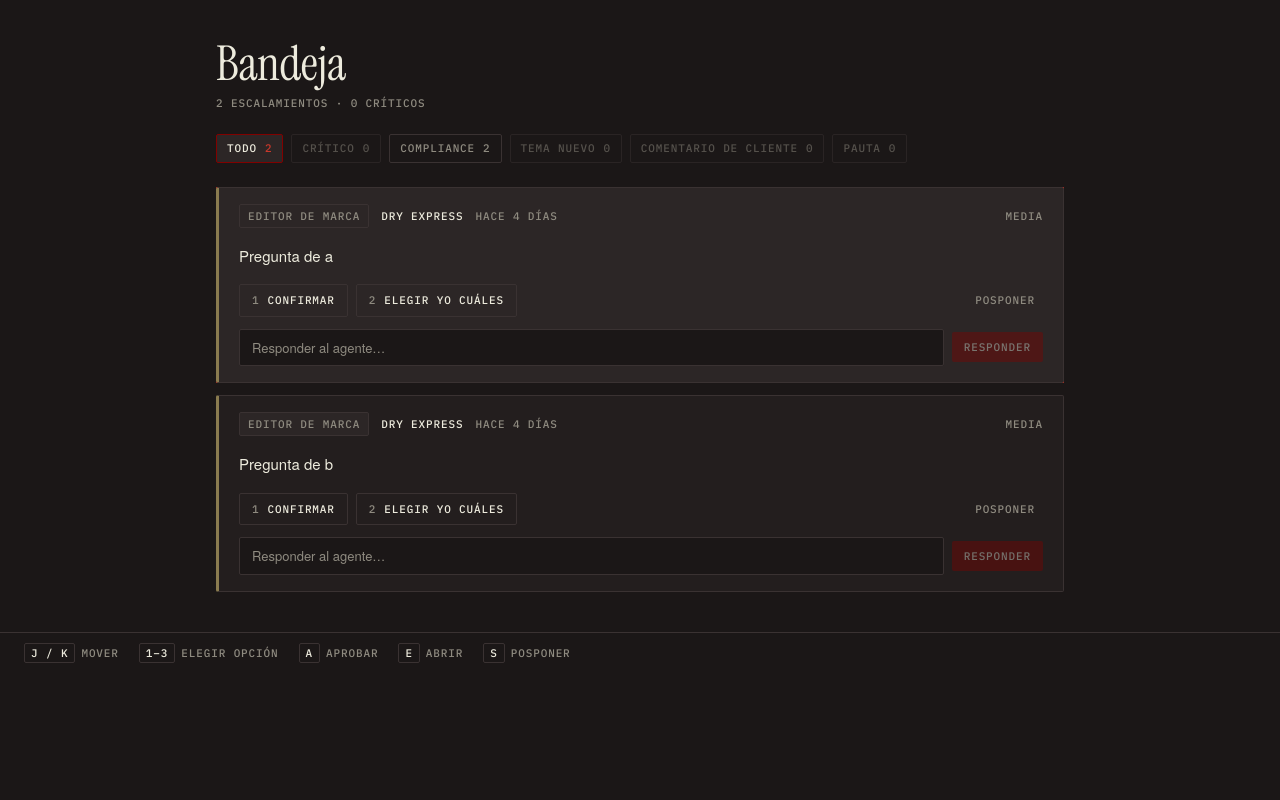
Scenario: la bandeja › al resolver, la tarjeta se va y el contador baja
Check: the text "2 escalamientos · 0 críticos" is shown, box top-left (216, 96), bottom-right (426, 110)
What coordinates should you click on to do the following:
click the button "1 Confirmar" below "Pregunta de a"
I would click on:
 (293, 300)
Its box is top-left (239, 284), bottom-right (348, 317).
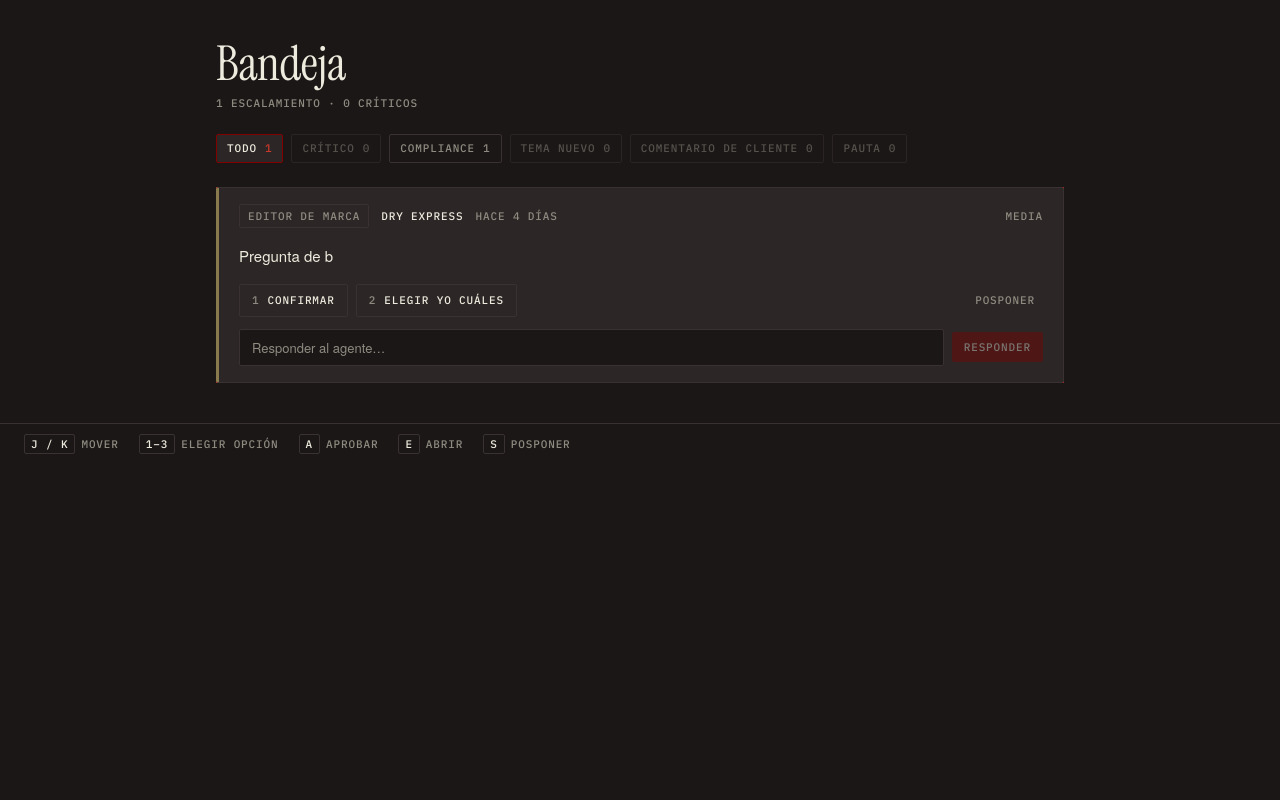
Check: the text "1 escalamiento · 0 críticos" is shown, box top-left (216, 96), bottom-right (418, 110)
